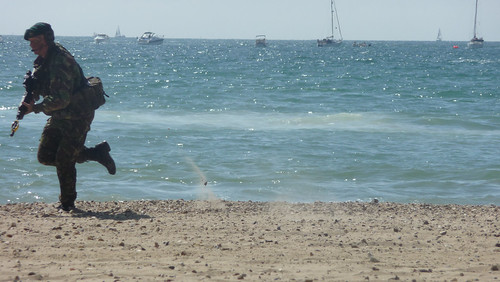beach: (1, 206, 495, 282)
boat: (313, 1, 346, 52), (461, 1, 485, 52), (139, 29, 165, 51)
sea: (8, 41, 500, 197)
sky: (1, 2, 500, 38)
soldier: (20, 22, 133, 229)
weapon: (11, 70, 40, 135)
